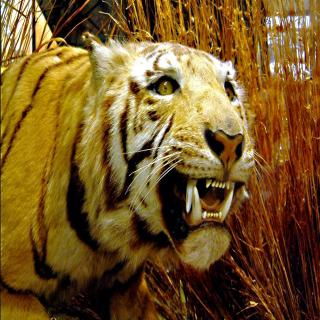Tiger: (0, 29, 253, 311)
